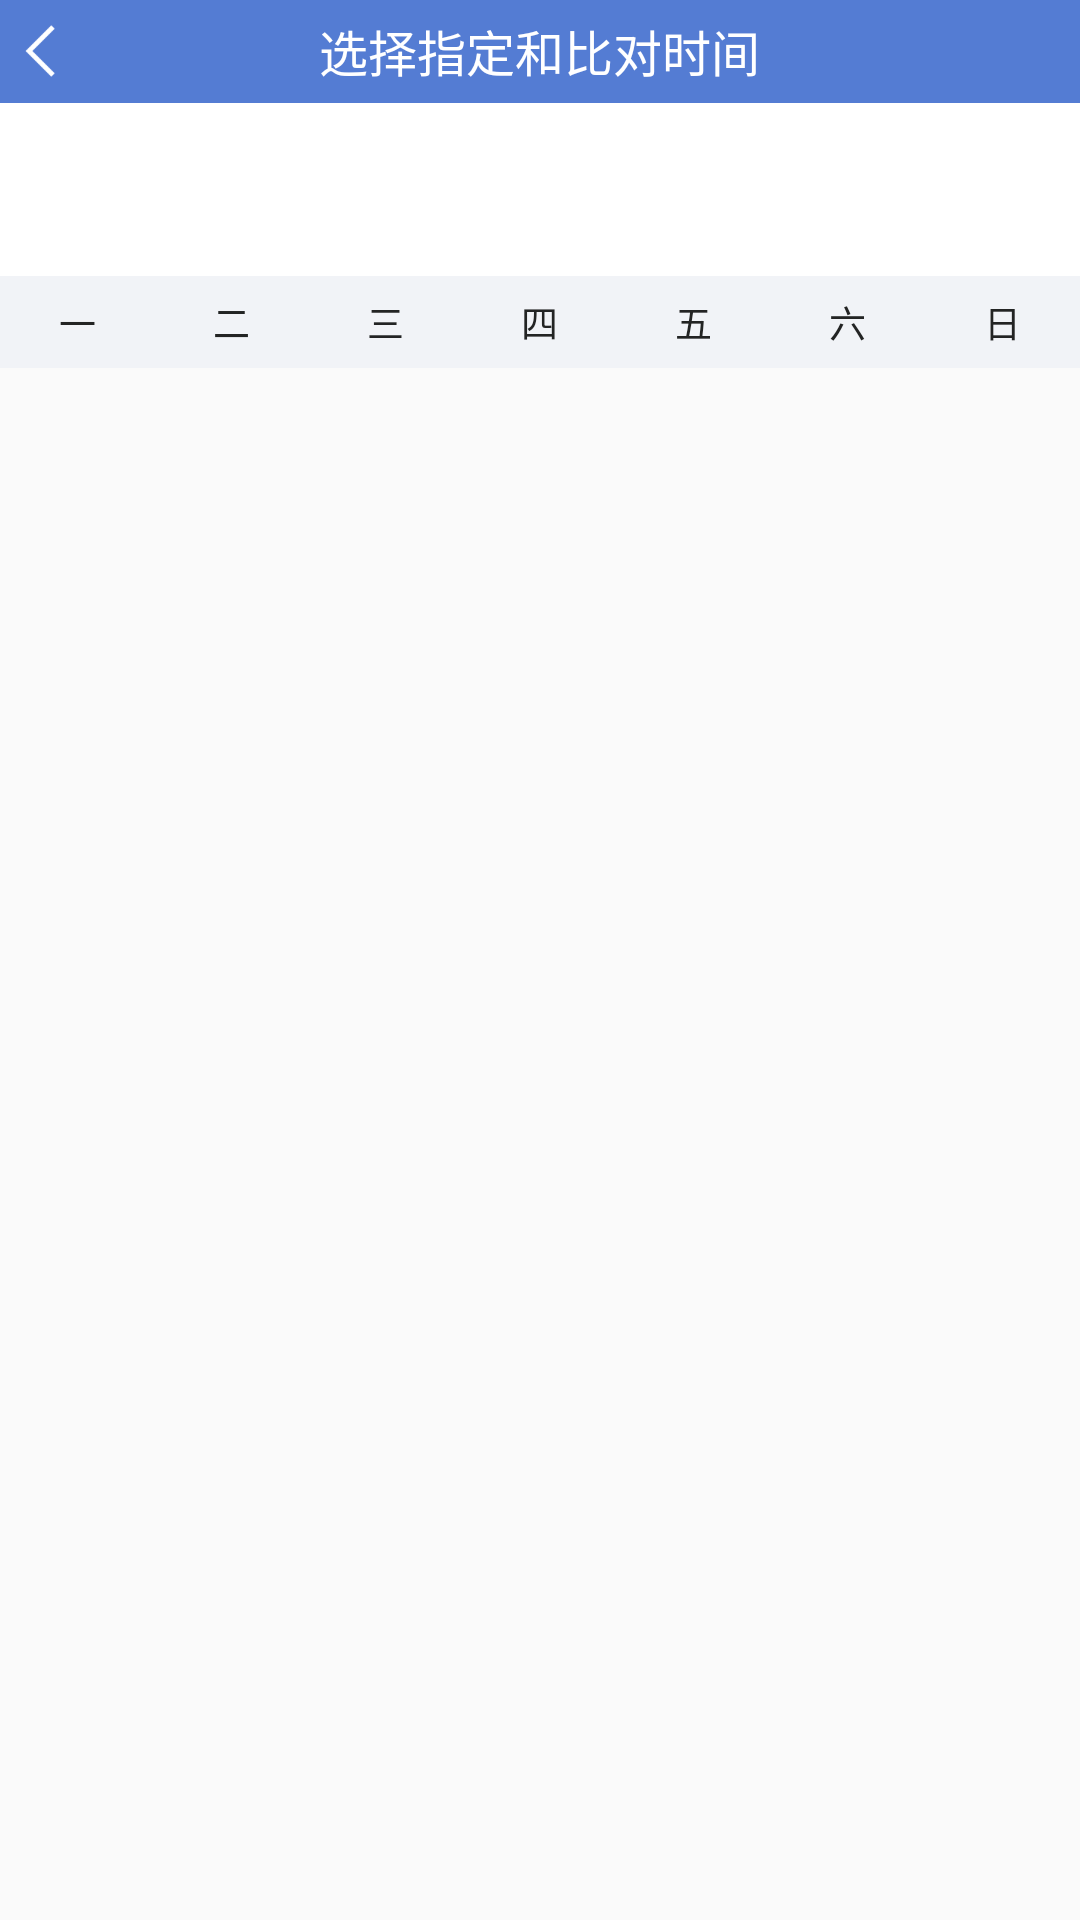

Icon bounding boxes for this 1080px×1920px phone screenshot, format (x1, y1, x2, y2):
back: (26, 25, 55, 77)
